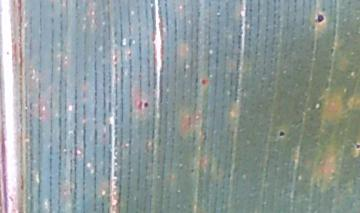tarspot: (316, 13, 326, 23), (278, 130, 287, 137), (142, 102, 150, 108), (355, 142, 360, 150)
